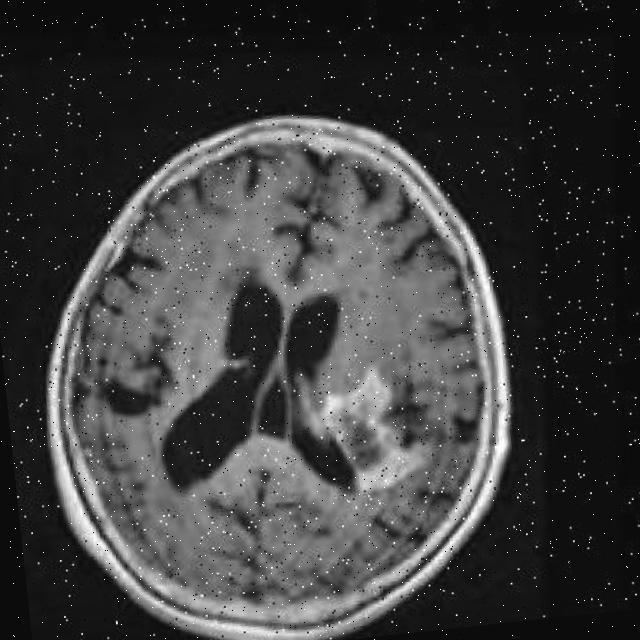LMCI: (314, 338, 463, 498)
